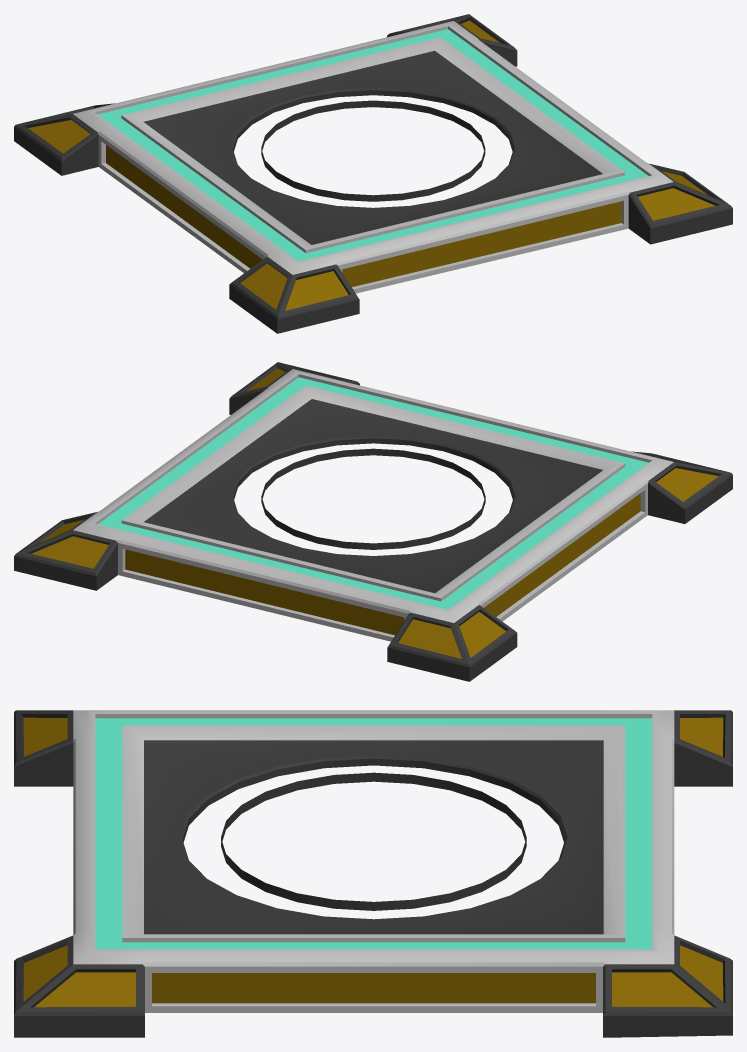
3 renders of one model, top to bottom at view 1: azimuth 30°, elevation 25°; view 2: azimuth 150°, elevation 25°; view 3: azimuth 270°, elevation 25°, orthographic. The views are drawn at different scales.
Parts seen in each view (by area): view 1: base_base; view 2: base_base; view 3: base_base.
Boxes of the visible parts, x1,y1,x2,y2 form: base_base: [14, 14, 732, 333]; base_base: [14, 362, 732, 681]; base_base: [14, 710, 732, 1037].
Bounding box in the file's own units: 55.27 × 55.35 × 4.61.
